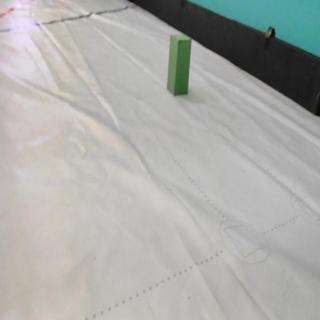greenbox: (168, 31, 192, 96)
